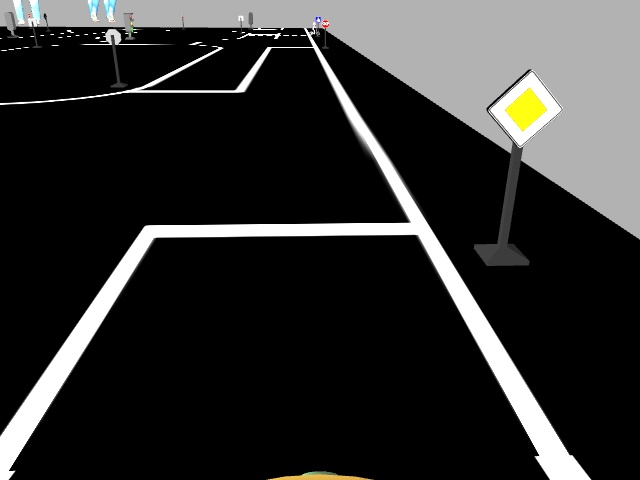Priority: (487, 68, 566, 148)
